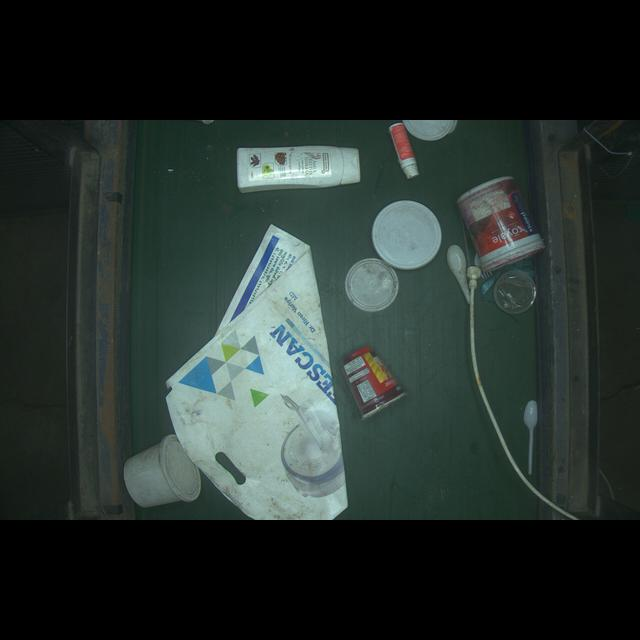PP: (450, 172, 550, 272), (119, 433, 206, 512), (336, 344, 415, 425)
